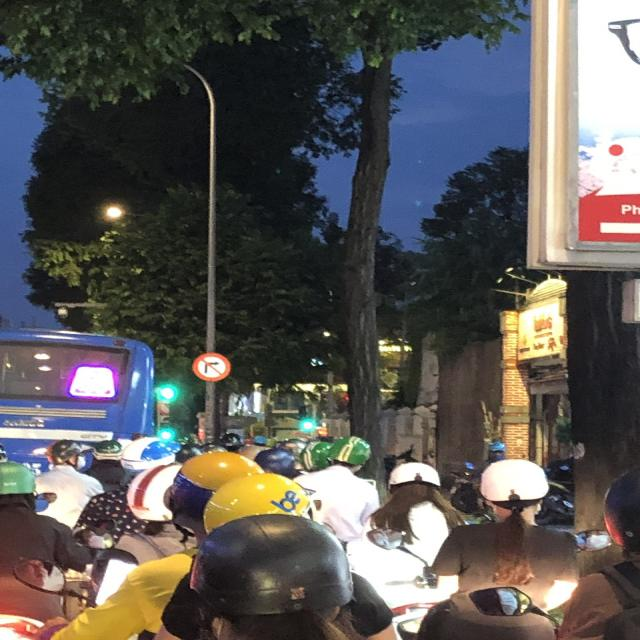Bien bao cam re phai: (189, 348, 236, 383)
